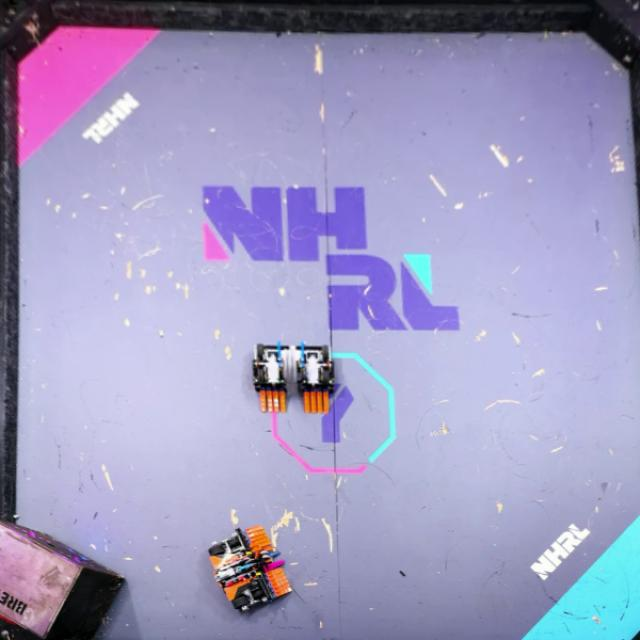housebot: (0, 517, 129, 640)
robot: (209, 524, 292, 613), (252, 340, 336, 414)
